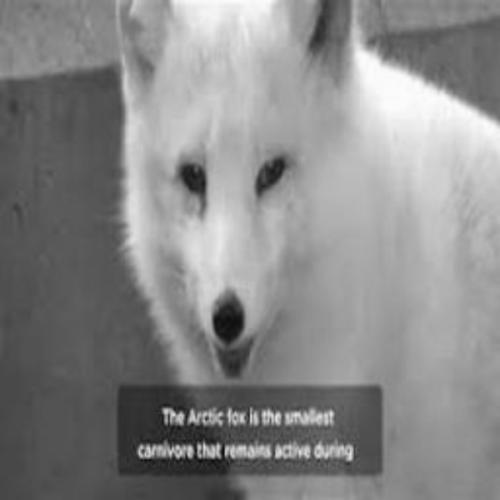arctic_fox-endangered: (115, 0, 500, 493)
